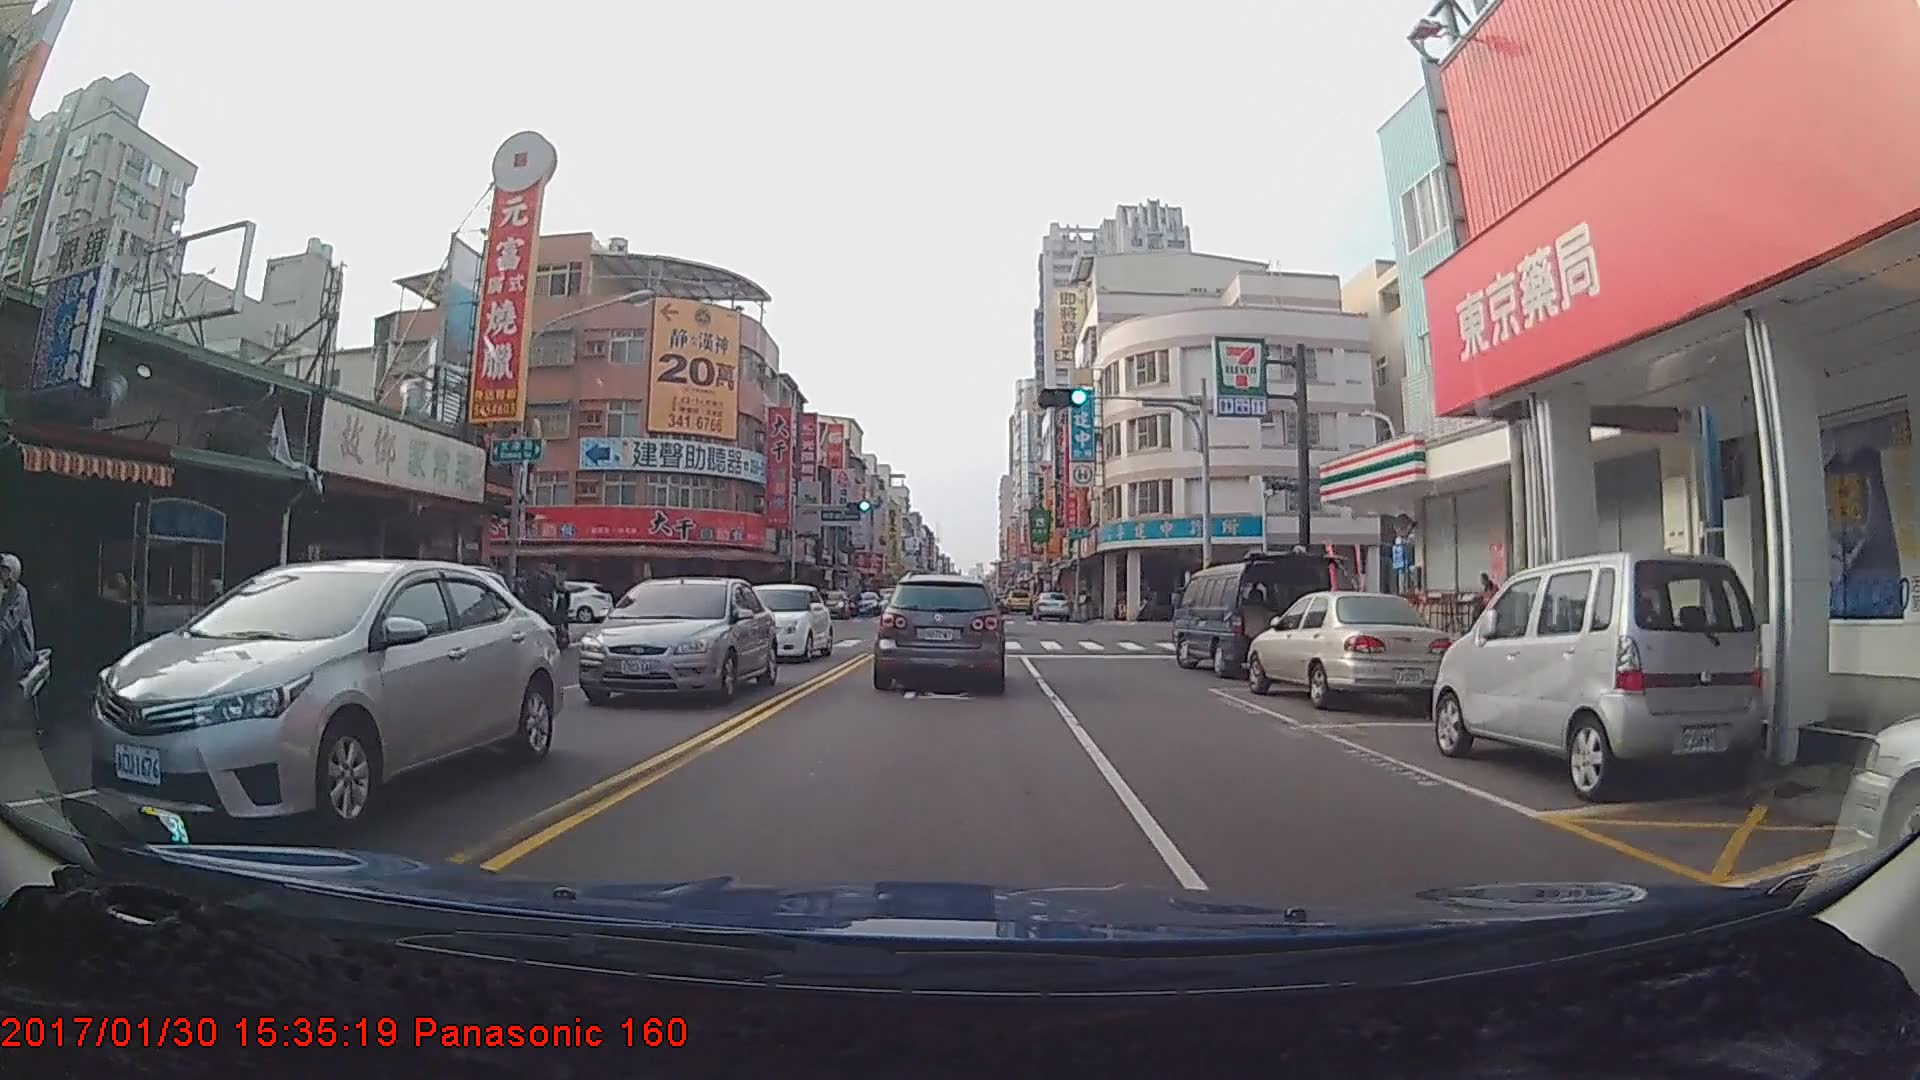rider: (0, 551, 65, 740)
vehicle: (87, 561, 559, 836), (1435, 544, 1762, 799), (581, 573, 776, 706), (1247, 591, 1451, 709), (1172, 564, 1322, 676), (878, 570, 1005, 692), (725, 582, 830, 663), (1031, 590, 1071, 623), (811, 587, 847, 620), (848, 593, 881, 616), (1004, 589, 1032, 612)
